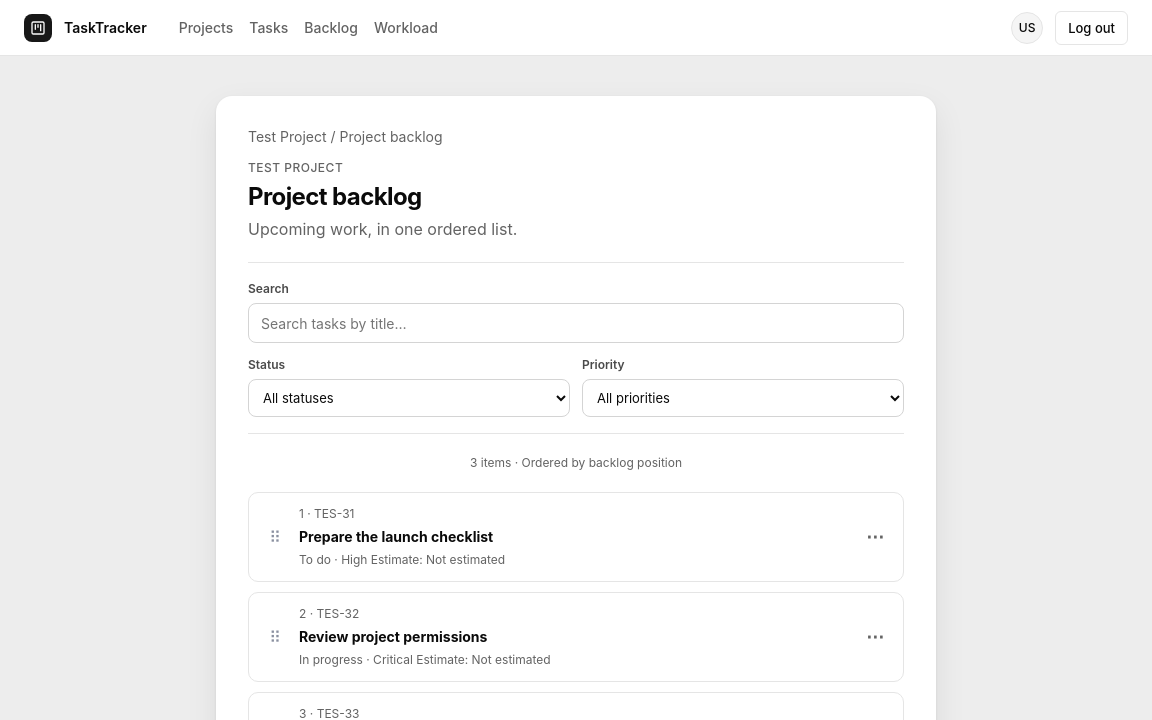
Test: [US-24] Prioritize and Reorder Backlog Items (T1WOR-163) › updates item priority using the priority modal and displays banner (State 04 & 07)
Check: the heading "Project backlog" is shown, box left=248, top=181, right=422, bottom=213
# Open item actions on task-1
Click the button with test id "backlog-item-actions-btn-task-1": click(875, 537) left=861, top=523, right=889, bottom=551
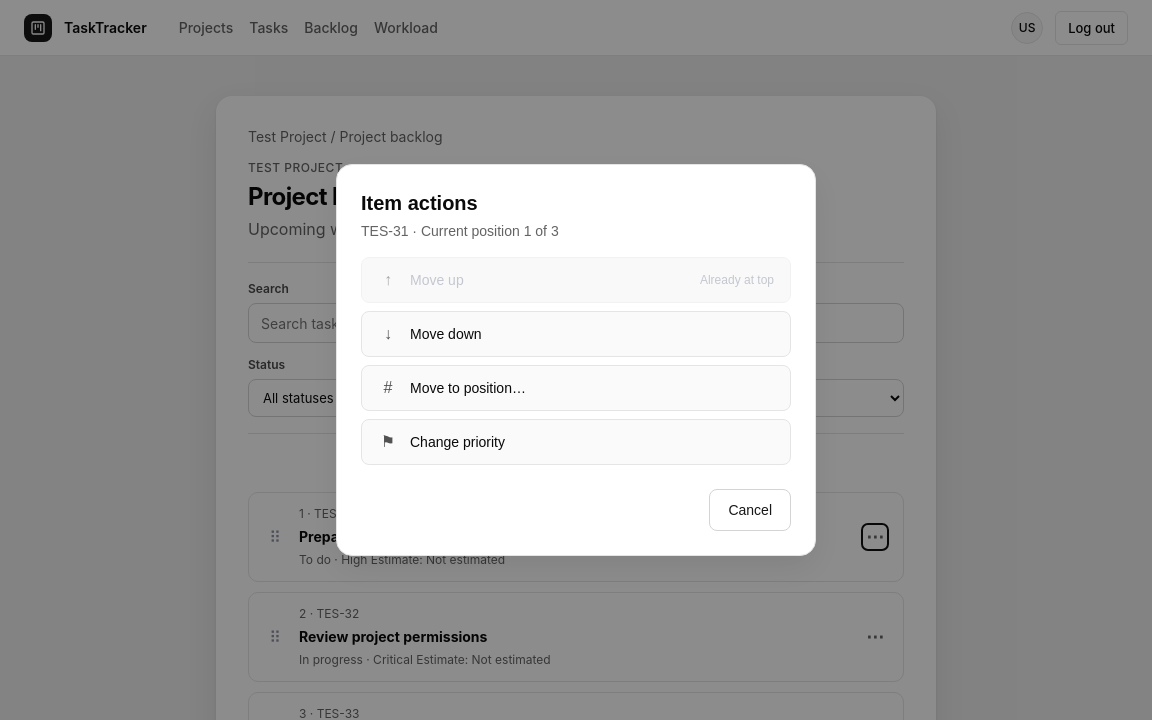
# Click "Change priority"
Click the button with test id "backlog-action-change-priority": click(457, 442) left=361, top=419, right=791, bottom=465
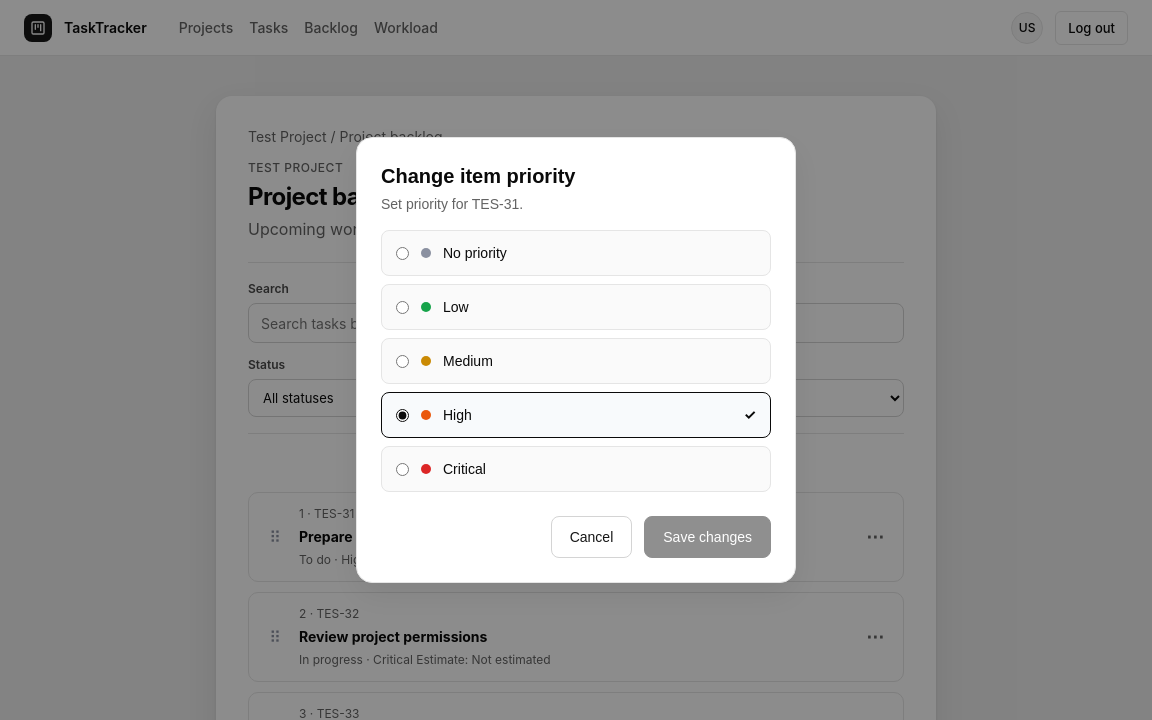
Check: the element with test id "backlog-priority-modal" is shown
Check: the heading "Change item priority" is shown, box left=381, top=165, right=576, bottom=187
Check: the text "Set priority for TES-31." is shown, box left=381, top=196, right=523, bottom=212
# Select Critical
Click the label with test id "backlog-priority-option-CRITICAL": click(464, 469) left=381, top=446, right=771, bottom=492
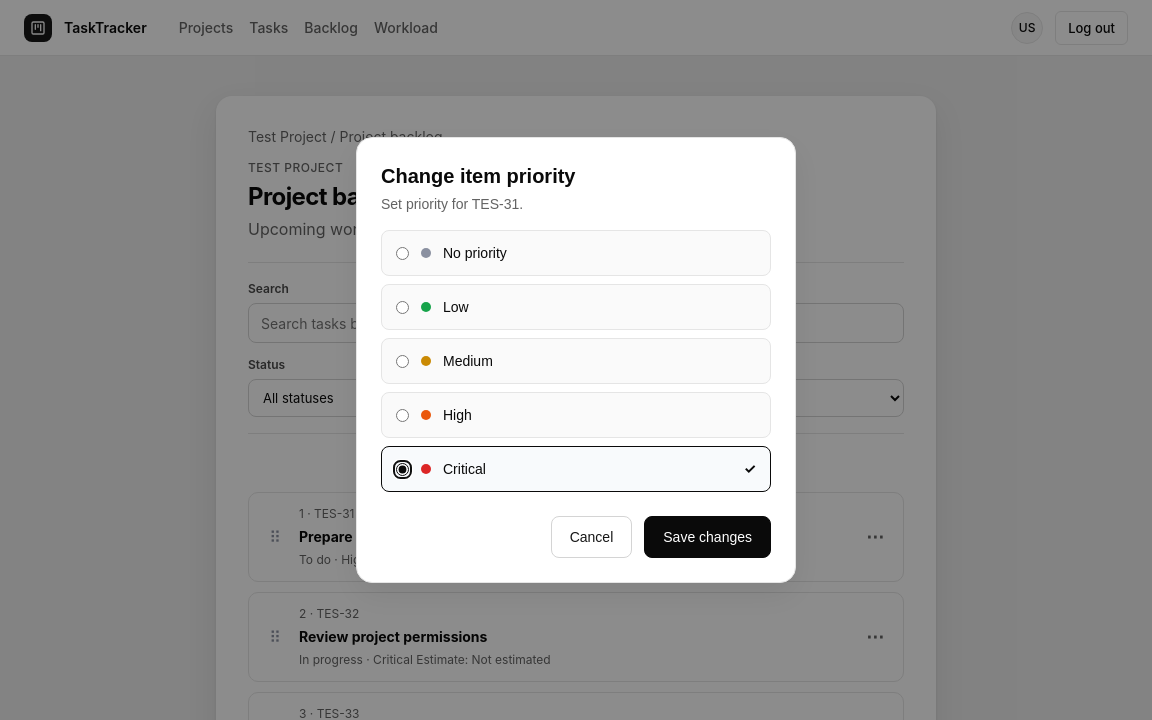
Check: the button with test id "backlog-priority-submit-btn" is enabled
Click the button with test id "backlog-priority-submit-btn": click(708, 537) left=644, top=516, right=771, bottom=558
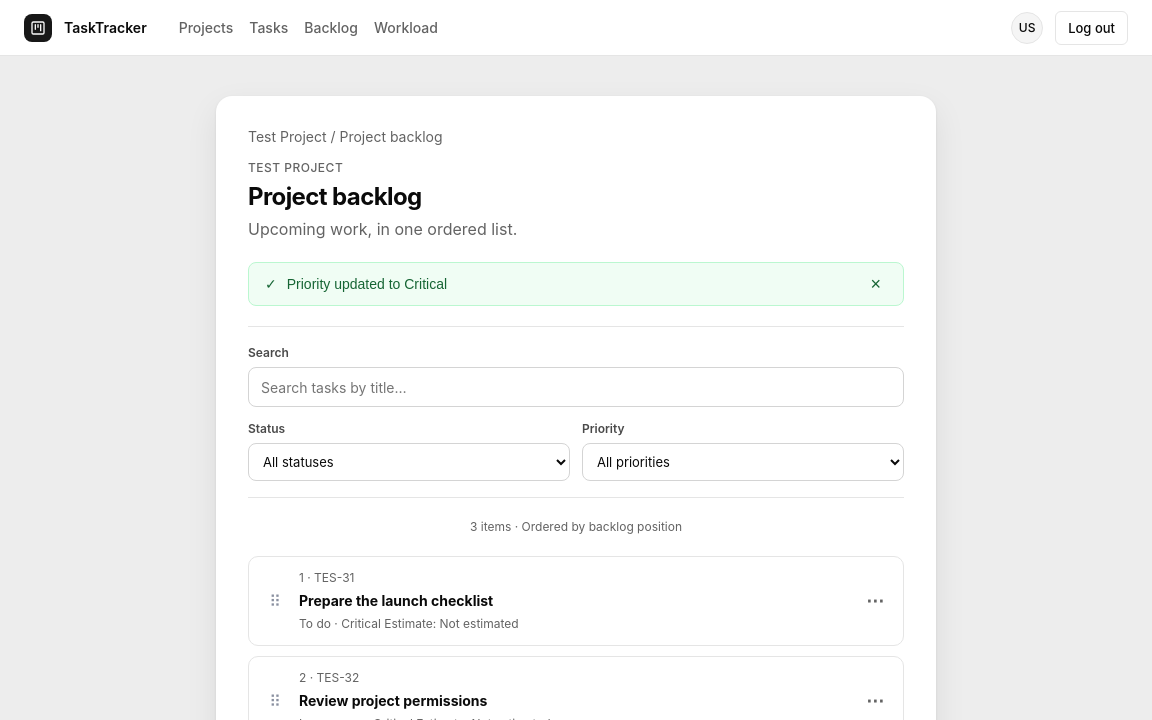
Check: the message with test id "backlog-priority-saved-banner" shows "Priority updated to Critical", box left=248, top=262, right=904, bottom=306
